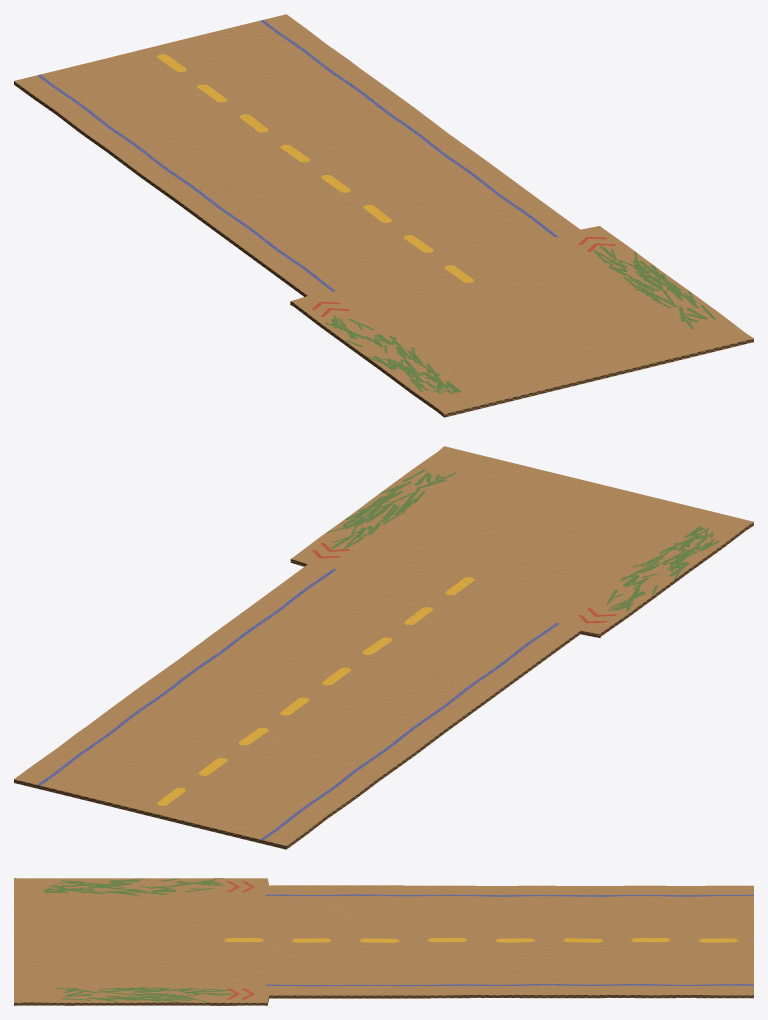
File: desk-runway-straight.fbx
3 renders of one model, top to bottom at view 1: azimuth 30°, elevation 25°; view 2: azimuth 150°, elevation 25°; view 3: azimuth 270°, elevation 25°, orthographic. The views are drawn at different scales.
Visible parts, largest first — view 1: desk-runway-straight; view 2: desk-runway-straight; view 3: desk-runway-straight.
Part boxes in pixels (x1,y1,x2,y2): desk-runway-straight: [14, 14, 753, 417]; desk-runway-straight: [14, 446, 753, 849]; desk-runway-straight: [14, 878, 753, 1005].
Size of the model in its own units: 10000 by 143 by 25100.
Materials: 1 (1 with a texture image).
